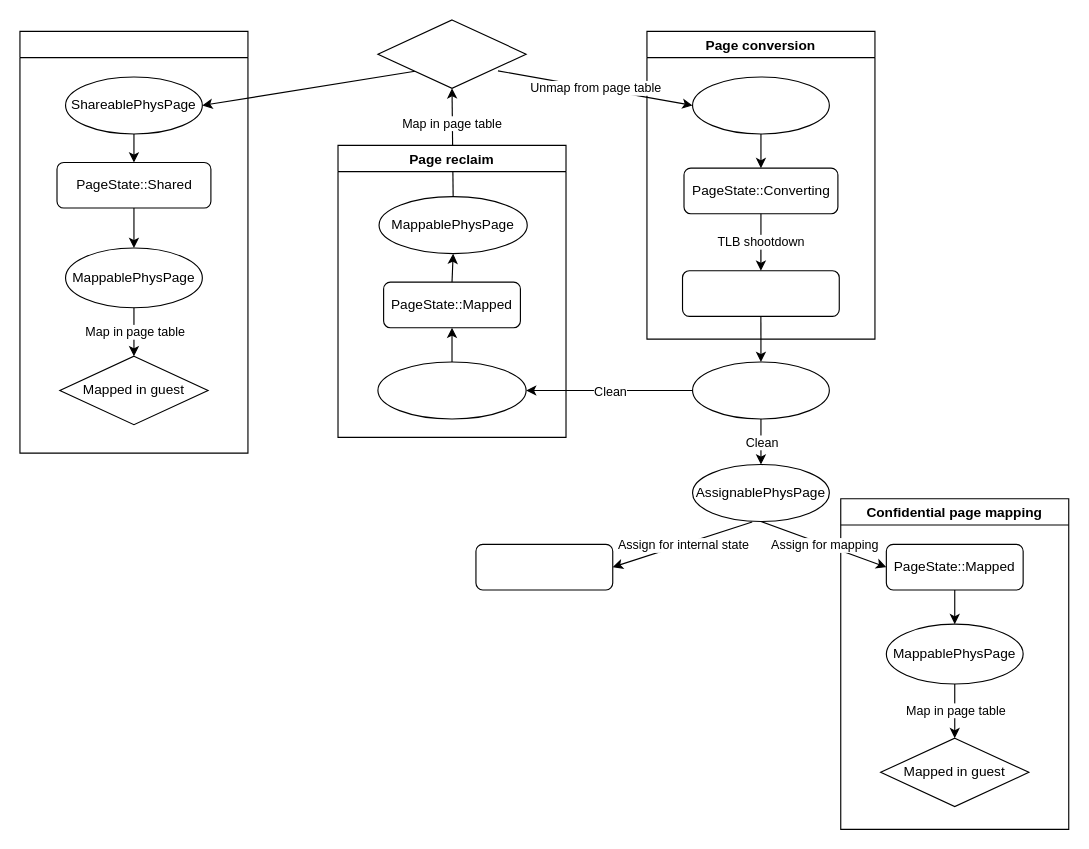
The diagram is 1089 pixels wide and 849 high, and some of its shapes have lost their labels. The shapes that lost their labels are listed below. From the top down, each one's centre as x and y in pixels, then its label:
[451,53]: Mapped in host
[760,105]: InvalidatedPhysPage
[133,241]: Page sharing
[760,293]: PageState::Converted
[451,390]: ReclaimablePhysPage
[760,390]: ConvertedPhysPage
[544,566]: PageState::VmState
